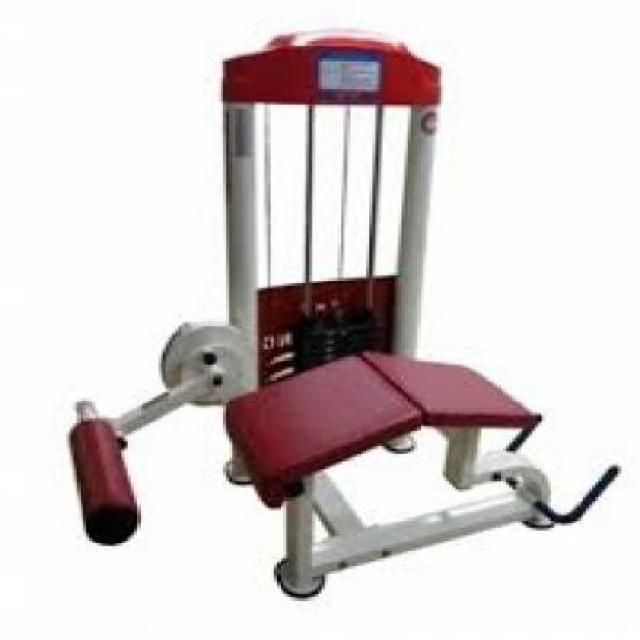reg curl machine: (53, 28, 624, 598)
